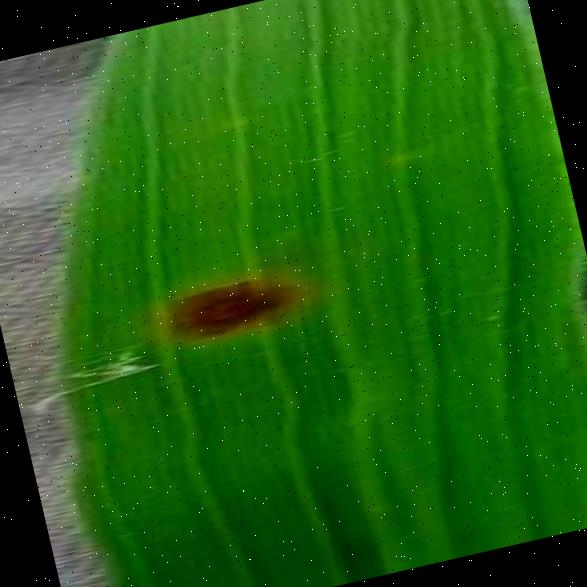Brown_Spot: (112, 232, 324, 378)
